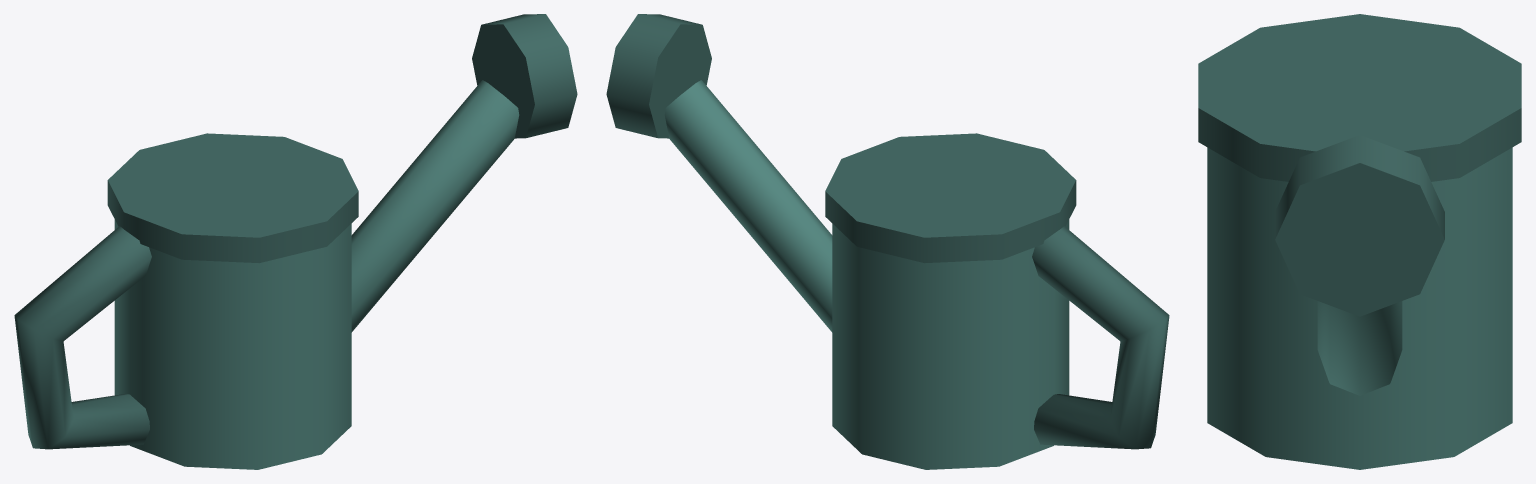
The model's file is watering_can.glb.
3 renders of one model, left to right at view 1: azimuth 30°, elevation 25°; view 2: azimuth 150°, elevation 25°; view 3: azimuth 270°, elevation 25°, orthographic. The views are drawn at different scales.
Parts seen in each view (by area): view 1: body; view 2: body; view 3: body.
Part boxes in pixels (x1,y1,x2,y2): body: (14, 14, 577, 469); body: (606, 14, 1169, 469); body: (1198, 14, 1521, 469).
Size of the model in its own units: 0.8691 by 0.52 by 0.3424.
